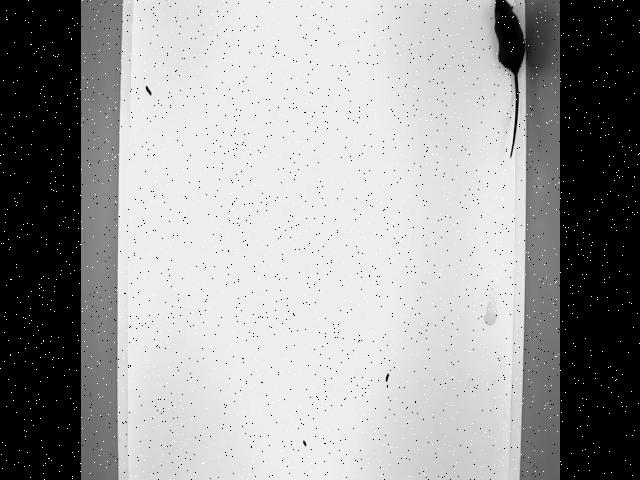Tikus: (492, 0, 524, 156)
